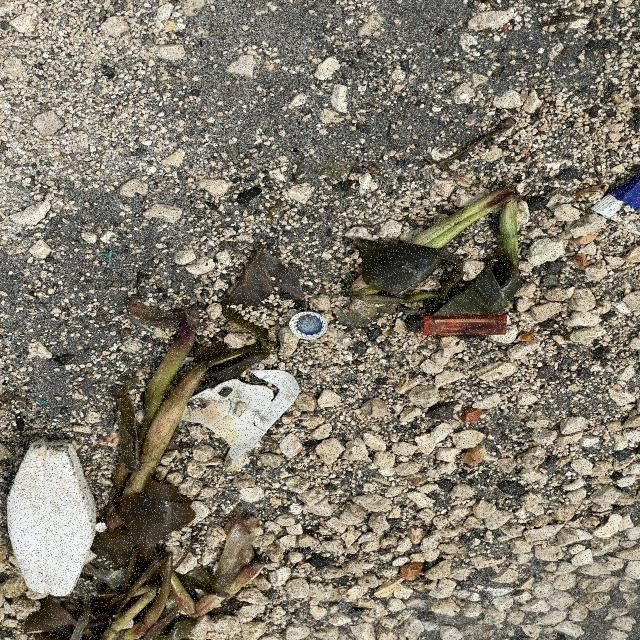plastic_waste: (289, 310, 331, 342)
styrofoam_waste: (1, 439, 105, 601)
